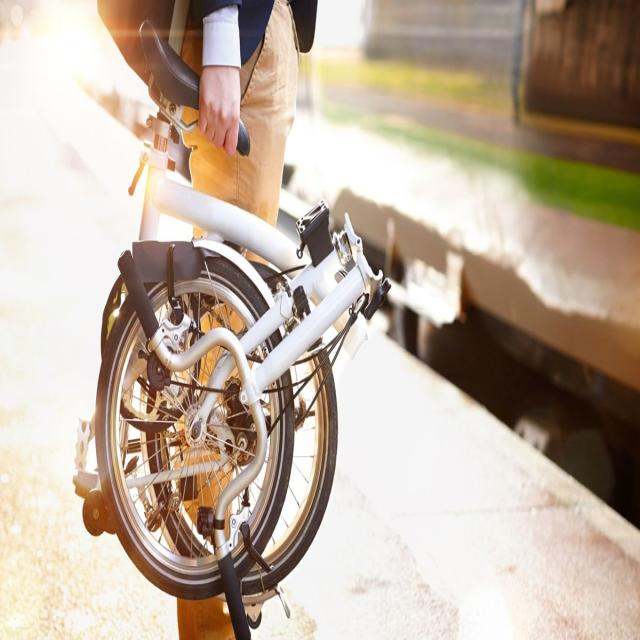folding-bike: (74, 17, 390, 640)
